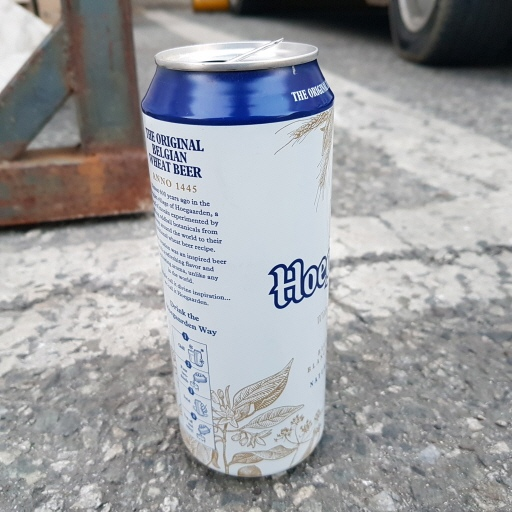Metal_0: (141, 37, 345, 484)
